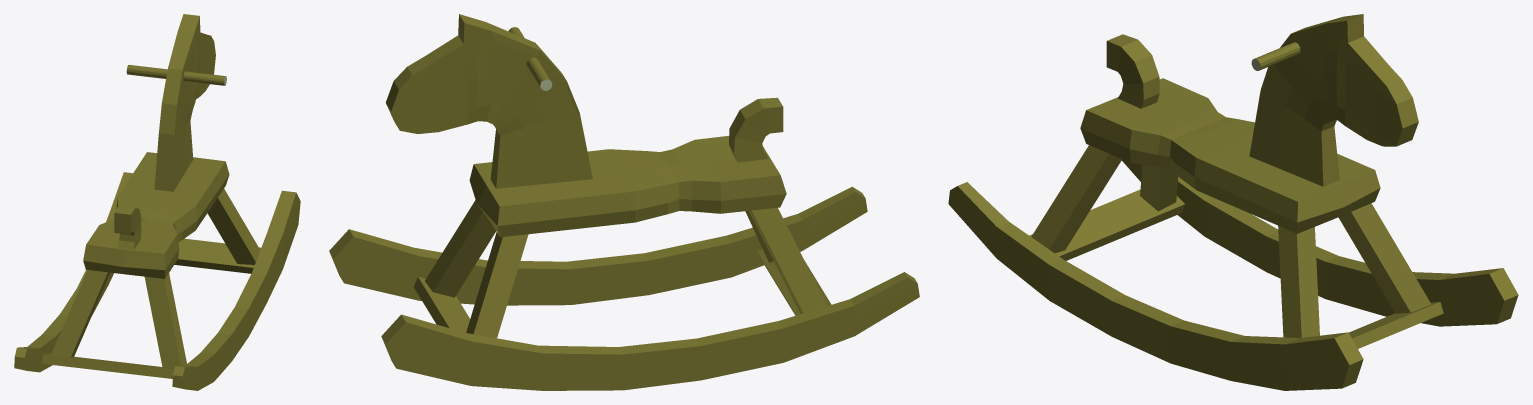
The model's file is Childrens_Room_Horse.fbx.
3 views of the same model, side by side, from view 1: azimuth 30°, elevation 25°; view 2: azimuth 150°, elevation 25°; view 3: azimuth 270°, elevation 25° (orthographic). The views are drawn at different scales.
Visible parts, largest first — view 1: Childrens_Room_Horse; view 2: Childrens_Room_Horse; view 3: Childrens_Room_Horse.
Part boxes in pixels (box(x1,y1,x2,y2)): Childrens_Room_Horse: box(14, 14, 300, 390); Childrens_Room_Horse: box(329, 14, 919, 390); Childrens_Room_Horse: box(948, 14, 1518, 390).
Bounding box in the file's own units: 144 × 97.99 × 143.
